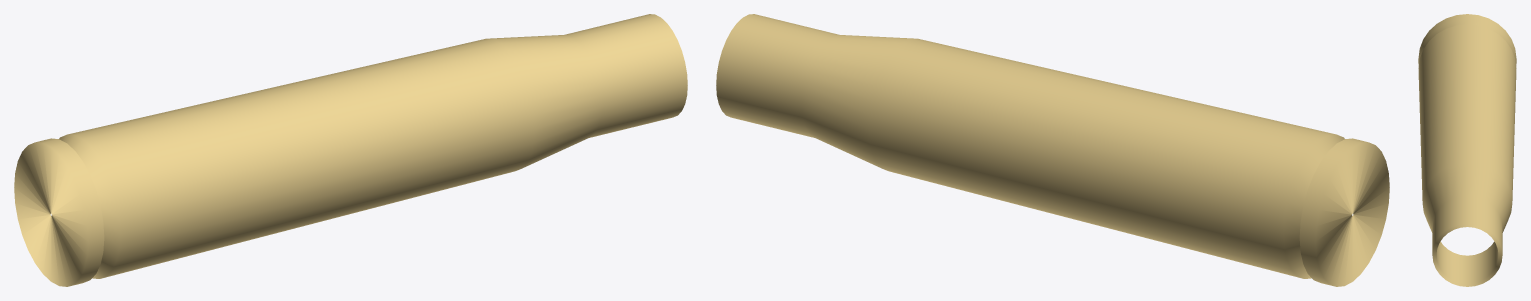
File: spent_casing_792x57.glb
3 views of the same model, side by side, from view 1: azimuth 30°, elevation 25°; view 2: azimuth 150°, elevation 25°; view 3: azimuth 270°, elevation 25° (orthographic). The views are drawn at different scales.
Parts seen in each view (by area): view 1: spent_casing_792x57; view 2: spent_casing_792x57; view 3: spent_casing_792x57.
Part boxes in pixels (left/top/right/bottom): spent_casing_792x57: left=14, top=14, right=687, bottom=286; spent_casing_792x57: left=716, top=14, right=1389, bottom=286; spent_casing_792x57: left=1418, top=14, right=1516, bottom=286.
Size of the model in its own units: 0.057 by 0.012 by 0.012.
